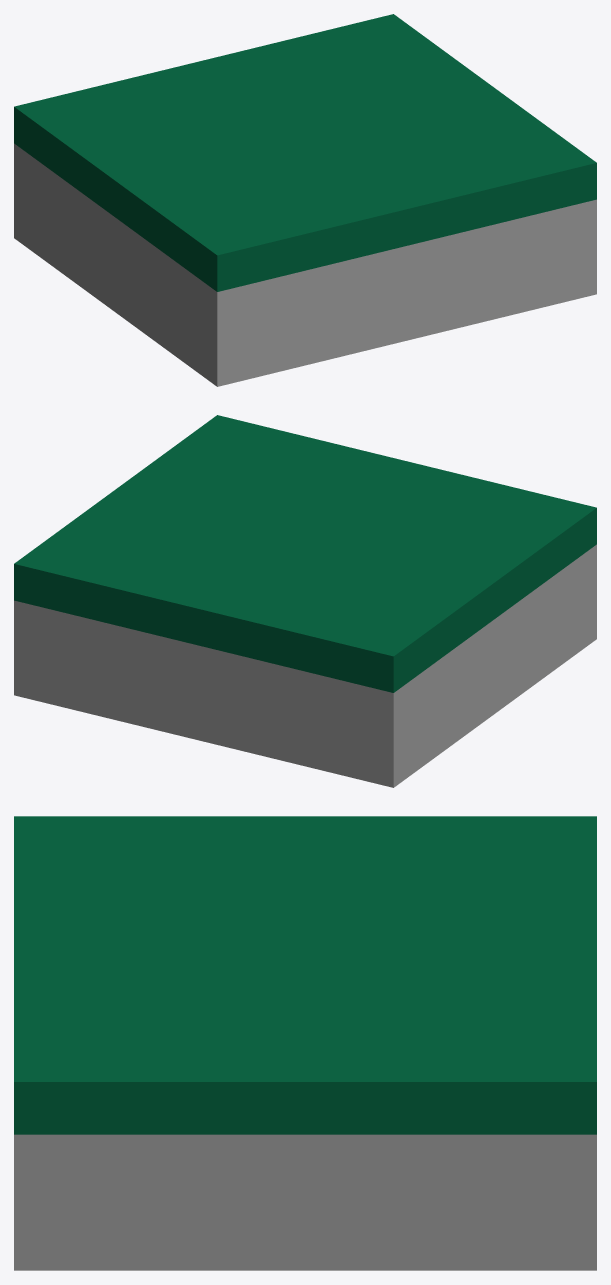
File: terreno.fbx
3 views of the same model, one above another, from view 1: azimuth 30°, elevation 25°; view 2: azimuth 150°, elevation 25°; view 3: azimuth 270°, elevation 25° (orthographic). The views are drawn at different scales.
Parts seen in each view (by area): view 1: pCube1; view 2: pCube1; view 3: pCube1.
Boxes of the visible parts, x1,y1,x2,y2 form: pCube1: (14, 14, 596, 386); pCube1: (14, 415, 596, 787); pCube1: (14, 816, 596, 1270).
Size of the model in its own units: 36.08 by 11.94 by 33.46.
